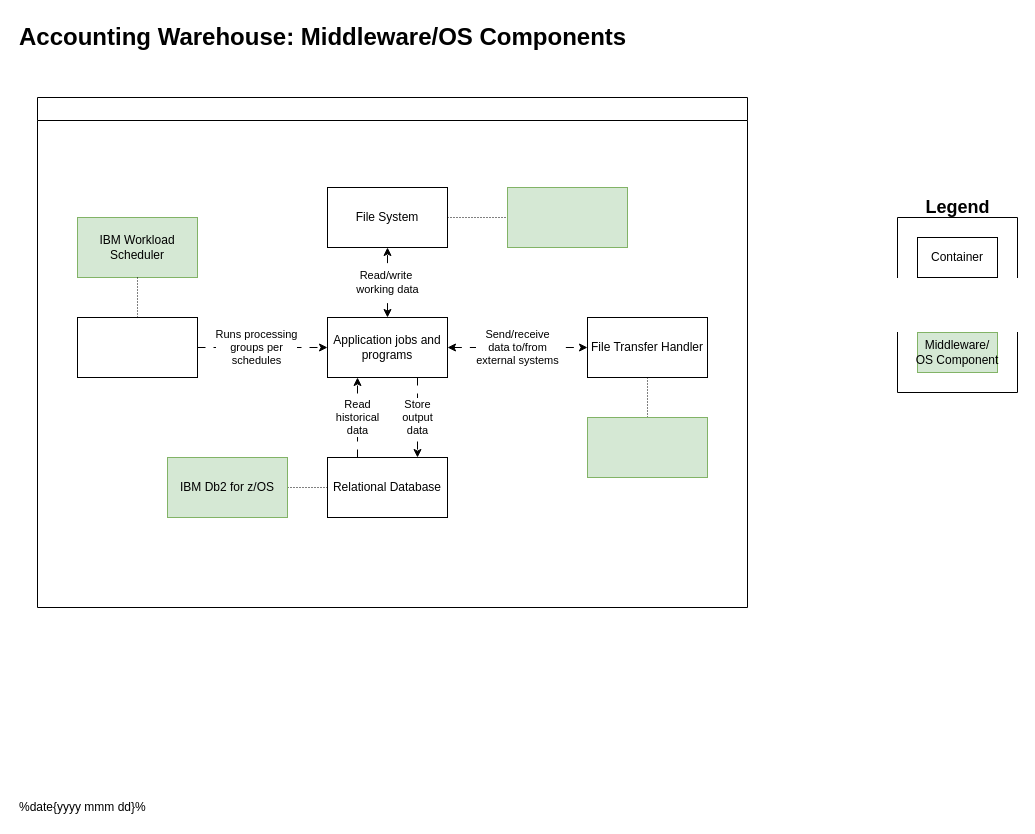
Some shapes in this 1035 by 834 pixel diagram are drawn without their labels. Each missing label, with the box of its shape:
Accounting Warehouse: (36, 96, 748, 608)
Batch Scheduler: (76, 316, 198, 378)
z/OS Native File System: (506, 186, 628, 248)
z/OS Native FTP Server: (586, 416, 708, 478)
